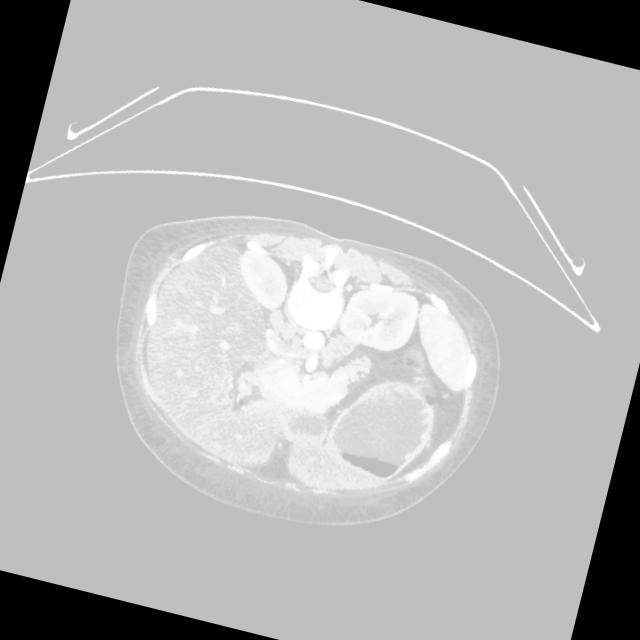NORMAL: (59, 193, 546, 563)
